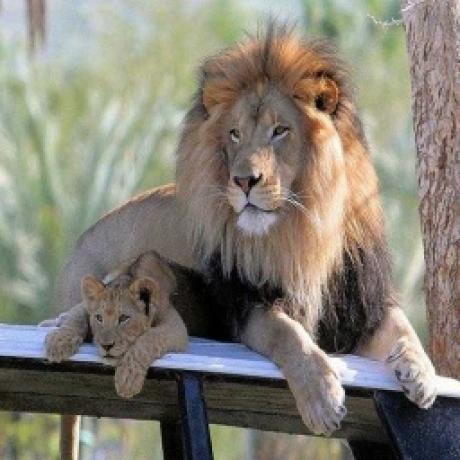Lion: (54, 28, 440, 442), (43, 250, 215, 402)
